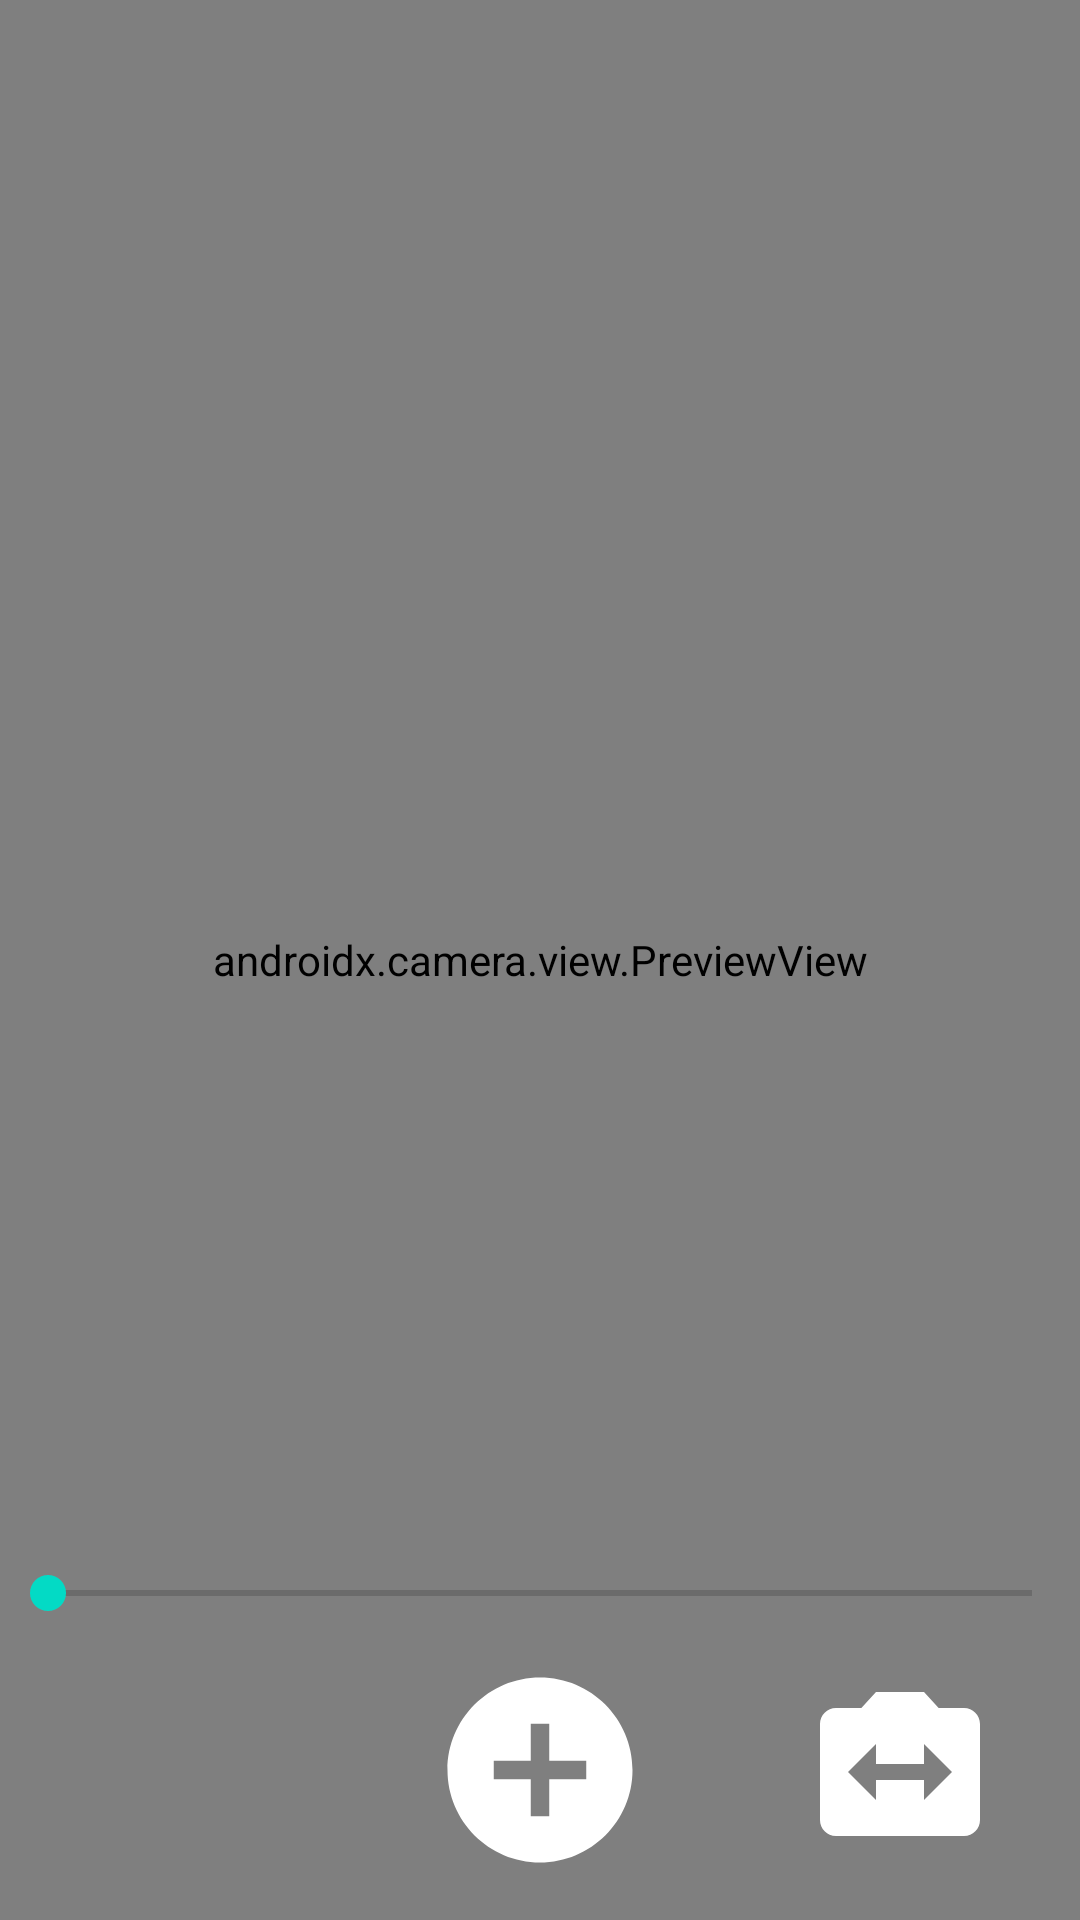

Screen size 1080px x 1920px. Icon name, then its box in pixels as (x1, y1, x2, y2):
add circle: (447, 1677, 633, 1863)
switch camera: (820, 1692, 980, 1836)
